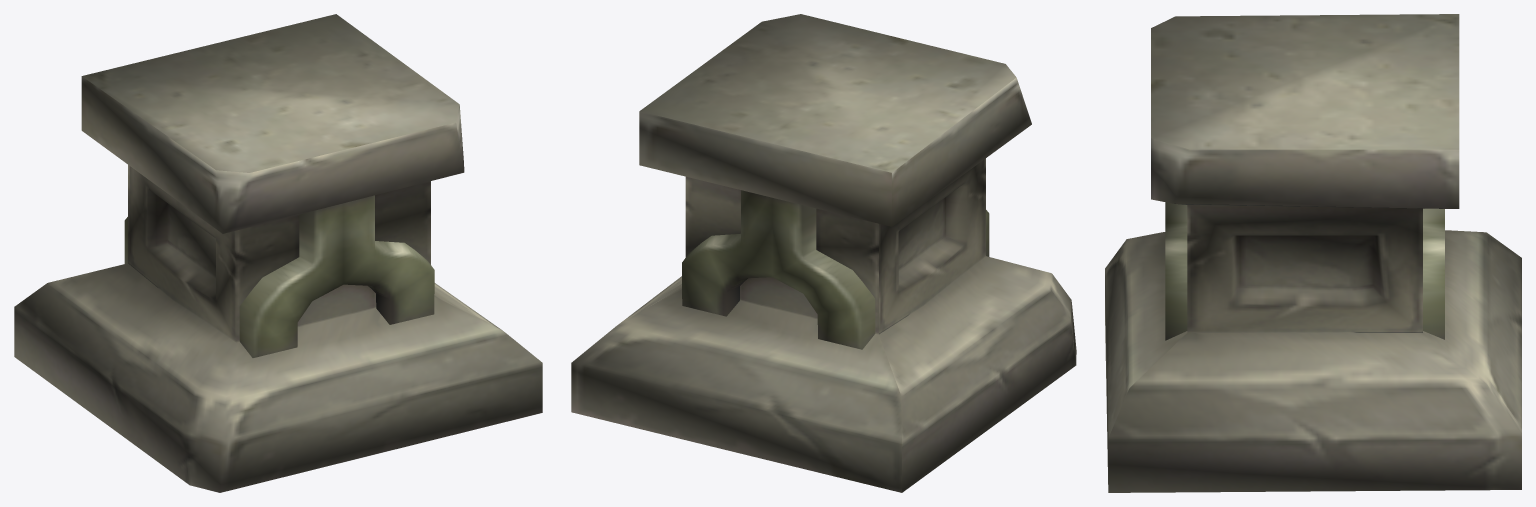
Rendered from shi.FBX.
3 renders of one model, left to right at view 1: azimuth 30°, elevation 25°; view 2: azimuth 150°, elevation 25°; view 3: azimuth 270°, elevation 25°, orthographic. The views are drawn at different scales.
Parts seen in each view (by area): view 1: Object001; view 2: Object001; view 3: Object001.
Part boxes in pixels (x1,y1,x2,y2): Object001: (14, 14, 542, 492); Object001: (571, 14, 1076, 492); Object001: (1105, 14, 1521, 492).
Size of the model in its own units: 143 by 117 by 139.
